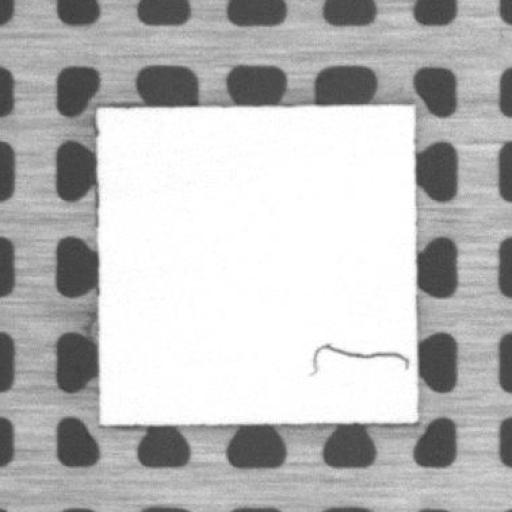DIE_INK: (308, 340, 410, 373)
